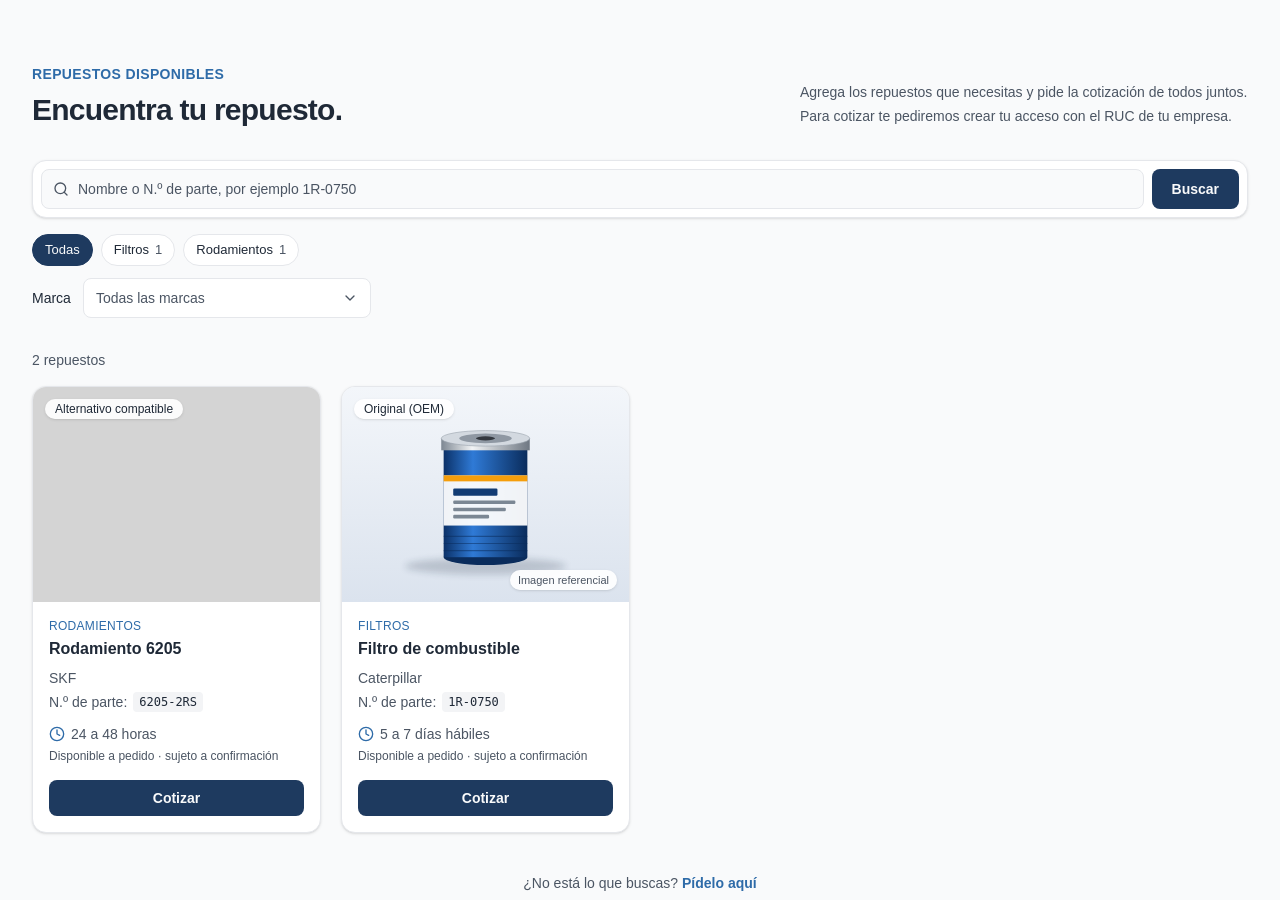
VitrinaLanding (RF-82, D-16, D-30) › restar con una sola unidad saca el repuesto del carrito y vuelve «Cotizar»
What coordinates should you click on to do the following:
click the button with aria-label "cotizar rodamiento 6205"
I would click on:
 (176, 798)
Its box is [49, 780, 304, 816].
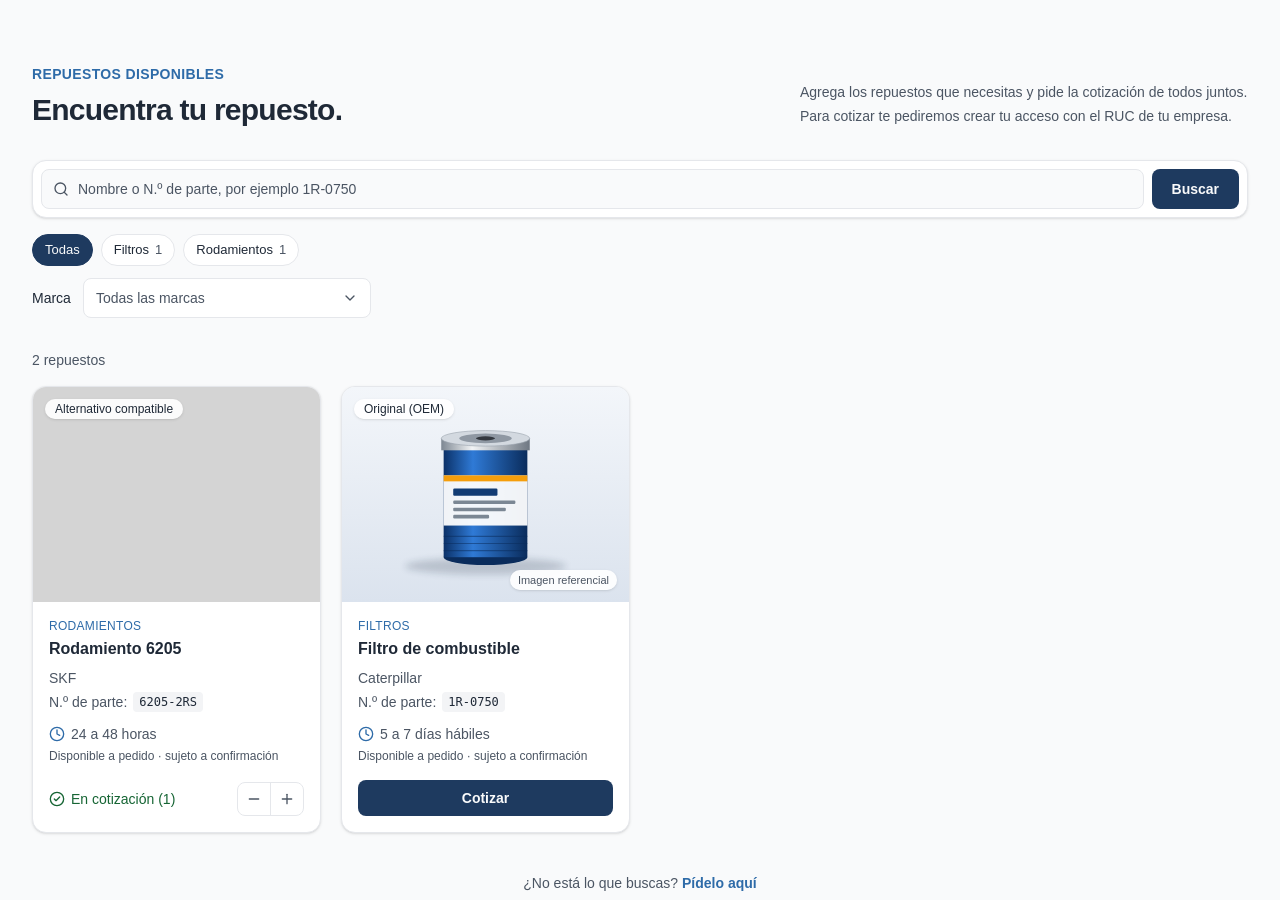
What coordinates should you click on to do the following:
click the button named "disminuir cantidad de rodamiento 6205"
I would click on:
 (254, 799)
Its box is [238, 783, 270, 815].
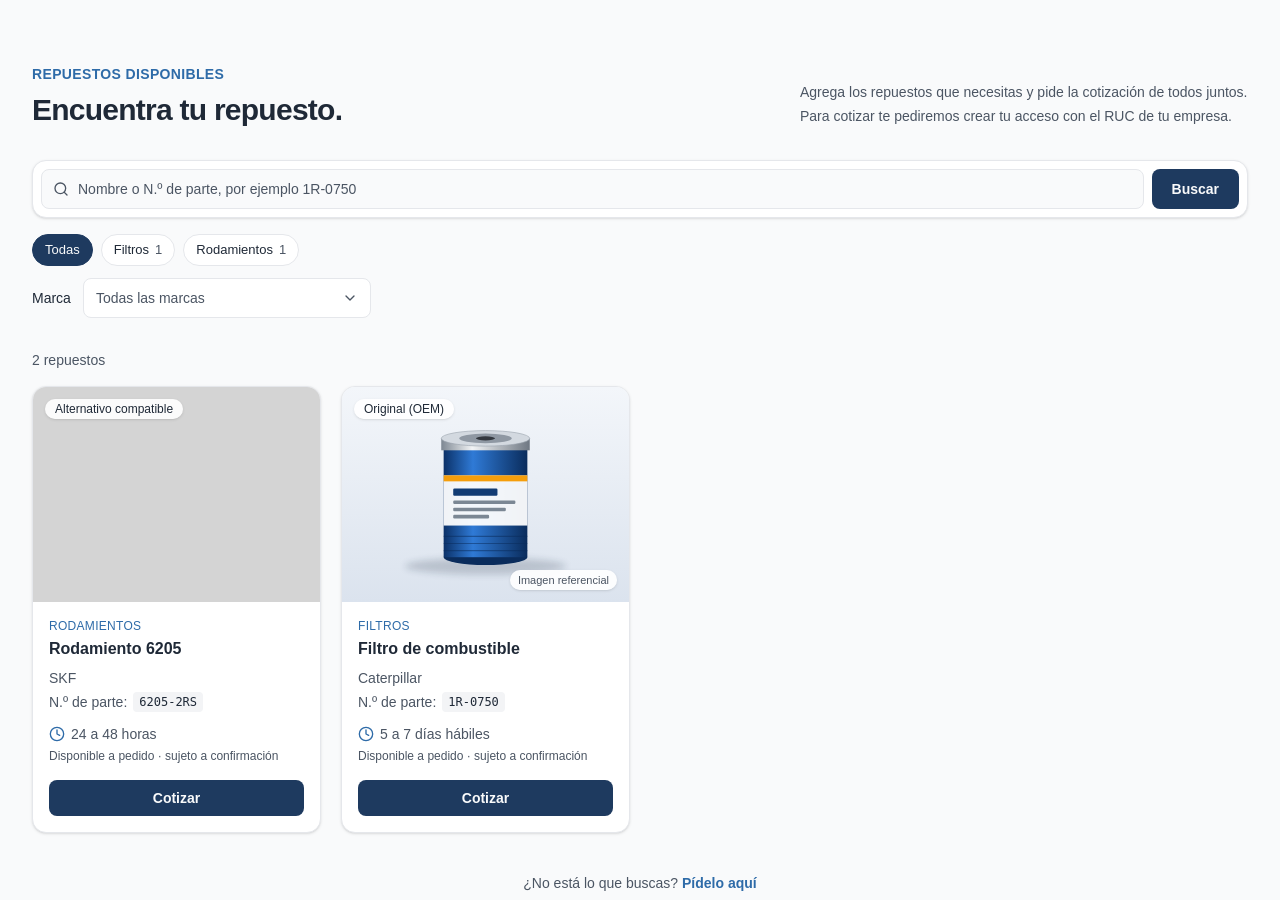
Now the button with aria-label "cotizar rodamiento 6205" is shown, box [49, 780, 304, 816]
